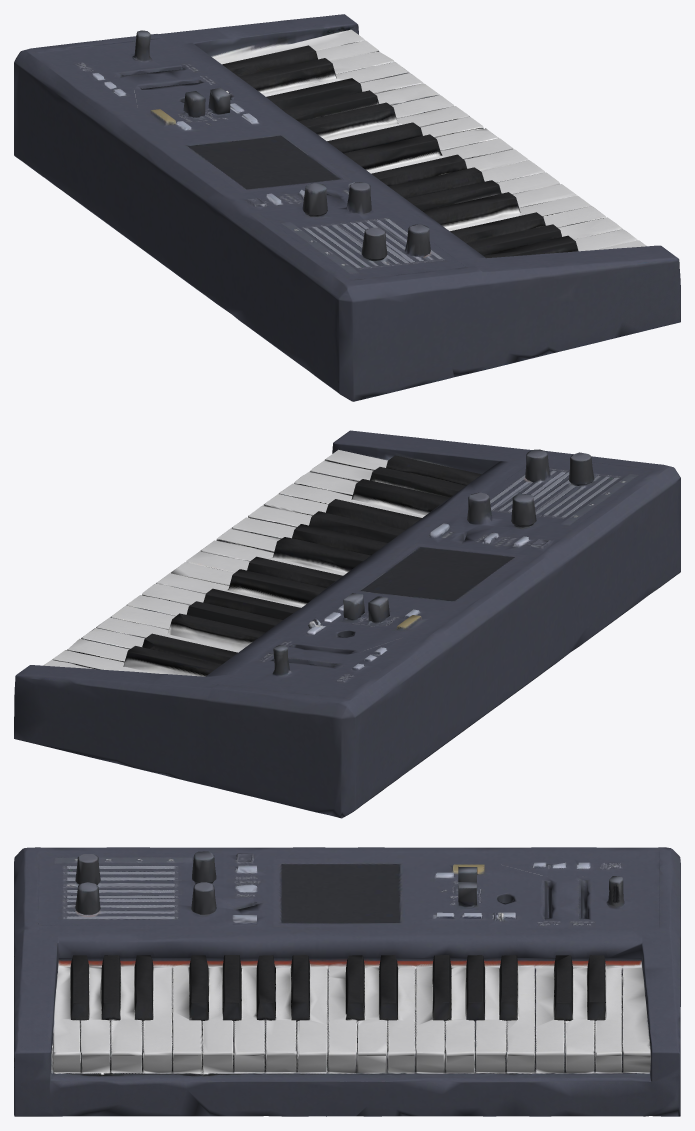
The model's file is keyboard_synthesizer_3d_model.fbx.
3 renders of one model, top to bottom at view 1: azimuth 30°, elevation 25°; view 2: azimuth 150°, elevation 25°; view 3: azimuth 270°, elevation 25°, orthographic.
Parts seen in each view (by area): view 1: tripo_node_19ef0cad; view 2: tripo_node_19ef0cad; view 3: tripo_node_19ef0cad.
Part boxes in pixels (box(x1,y1,x2,y2)): tripo_node_19ef0cad: box(14, 14, 680, 401); tripo_node_19ef0cad: box(14, 430, 680, 818); tripo_node_19ef0cad: box(14, 847, 680, 1116).
Size of the model in its own units: 0.5688 by 0.2262 by 0.9794.
